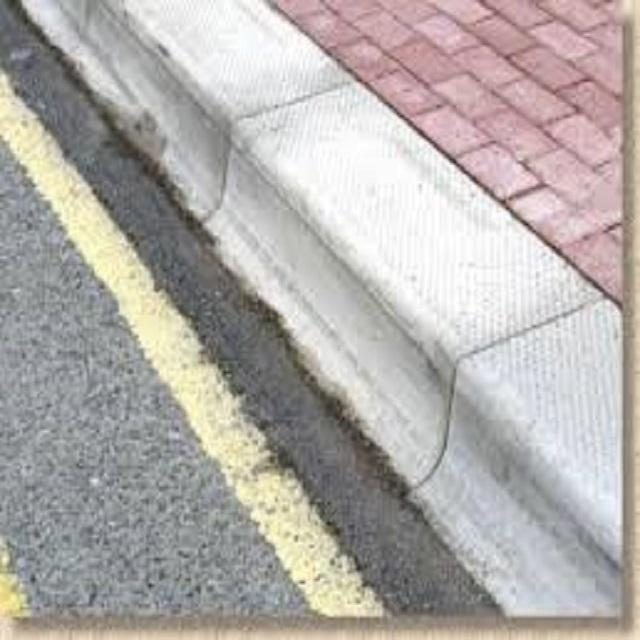curb: (341, 195, 632, 610), (36, 1, 423, 313)
